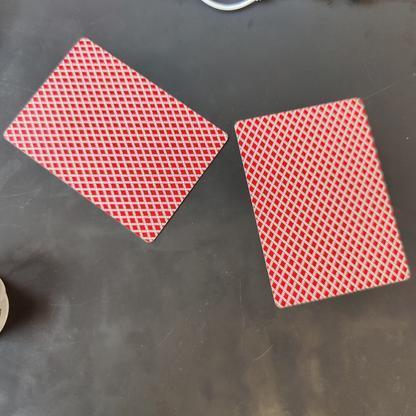card: (1, 29, 232, 252), (233, 89, 414, 317)
